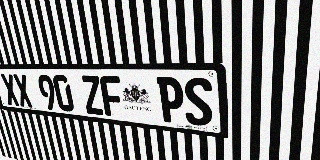0: (52, 75, 75, 112)
9: (36, 74, 59, 110)
F: (99, 76, 125, 118)
P: (156, 77, 185, 124)
S: (183, 77, 213, 127)
X: (12, 74, 34, 108), (0, 74, 20, 106)
Z: (80, 75, 105, 115)
